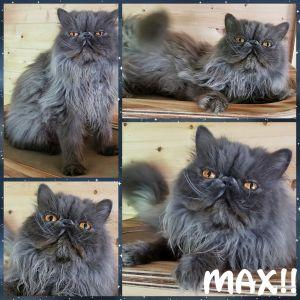persian: (52, 6, 122, 68)
